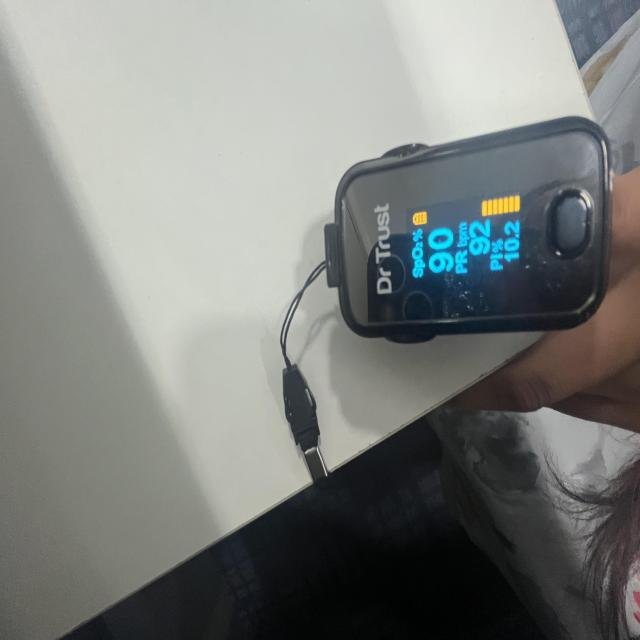spo2: (326, 117, 614, 344)
